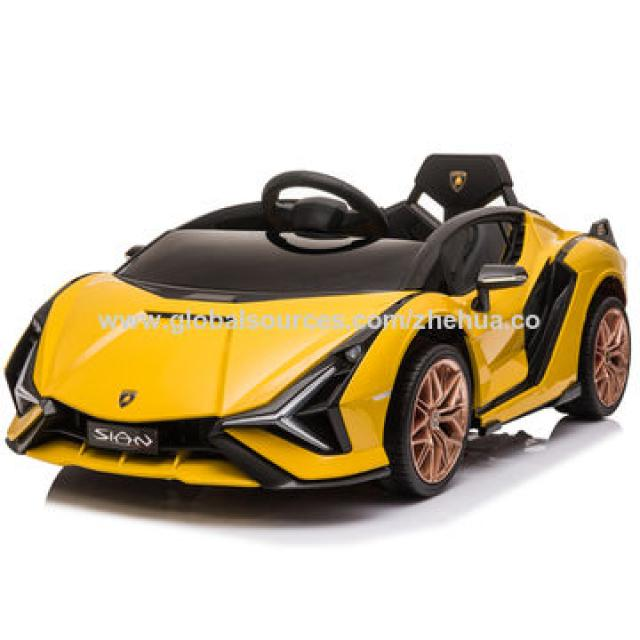Car: (2, 151, 631, 500)
